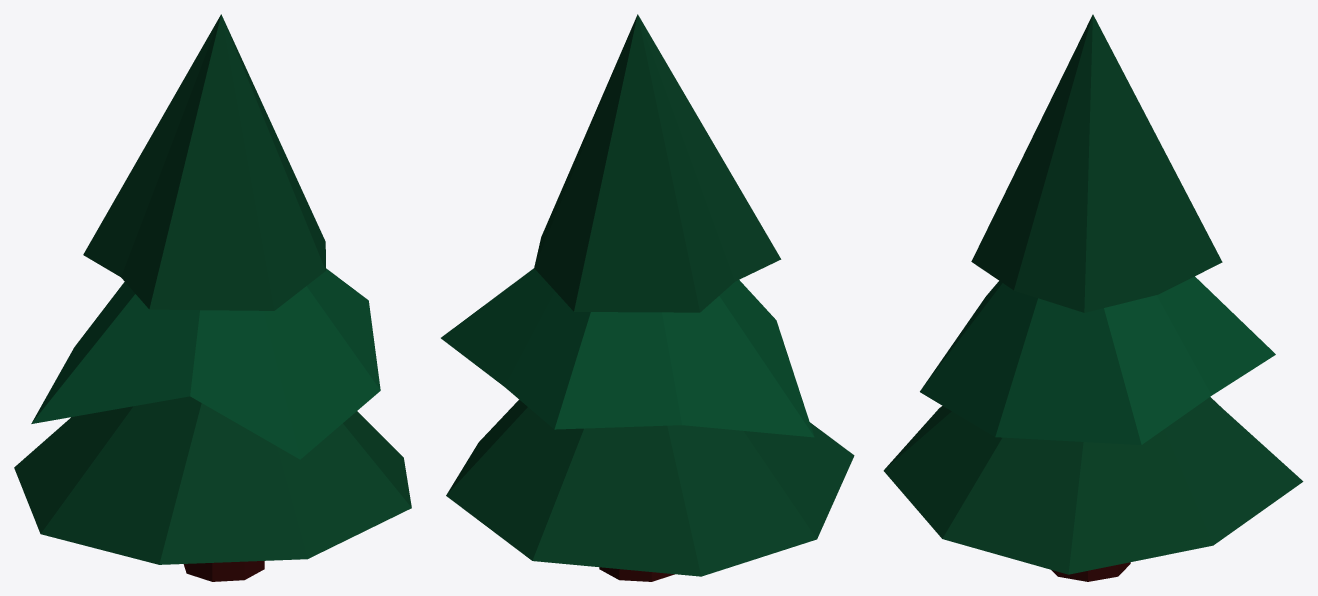
Rendered from conifer_.fbx.
3 renders of one model, left to right at view 1: azimuth 30°, elevation 25°; view 2: azimuth 150°, elevation 25°; view 3: azimuth 270°, elevation 25°, orthographic.
Visible parts, largest first — view 1: Cone; view 2: Cone; view 3: Cone.
Boxes of the visible parts, x1,y1,x2,y2 form: Cone: (14, 14, 411, 581); Cone: (441, 14, 854, 581); Cone: (883, 14, 1303, 581).
Bounding box in the file's own units: 1052 × 1555 × 1077.
